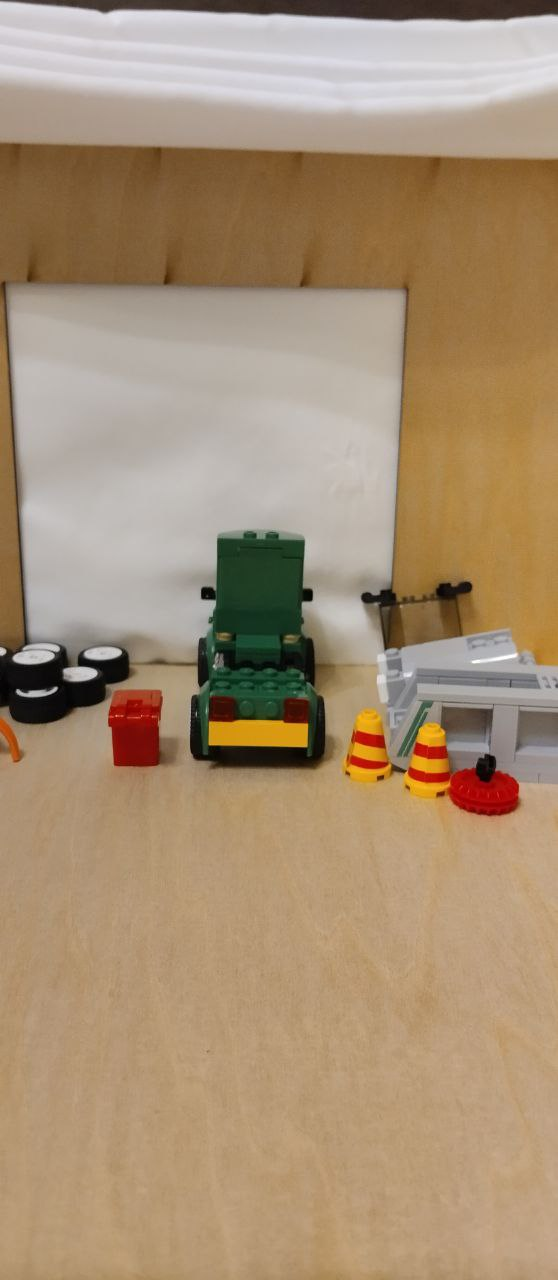Cone: (398, 722, 458, 795), (343, 710, 392, 782)
Object Red: (103, 686, 170, 773)
Truck: (185, 524, 335, 774)
